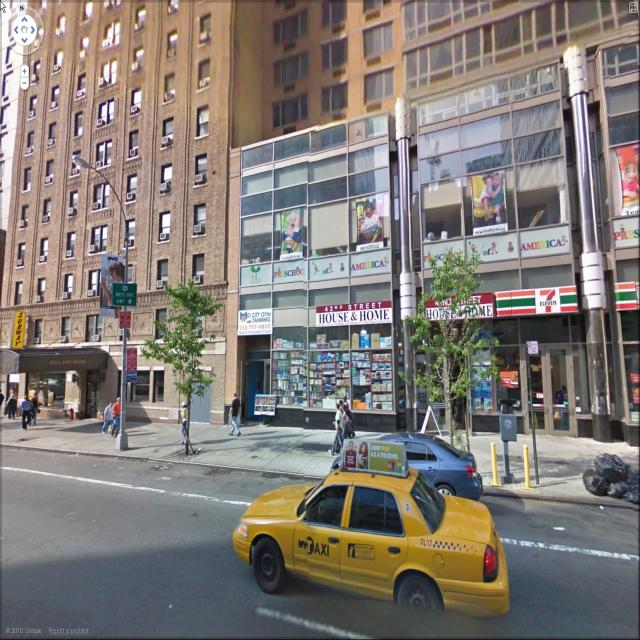b_1: (406, 85, 636, 444), (3, 3, 246, 339), (212, 126, 406, 407)
b_2: (7, 1, 223, 410), (404, 51, 576, 435)
